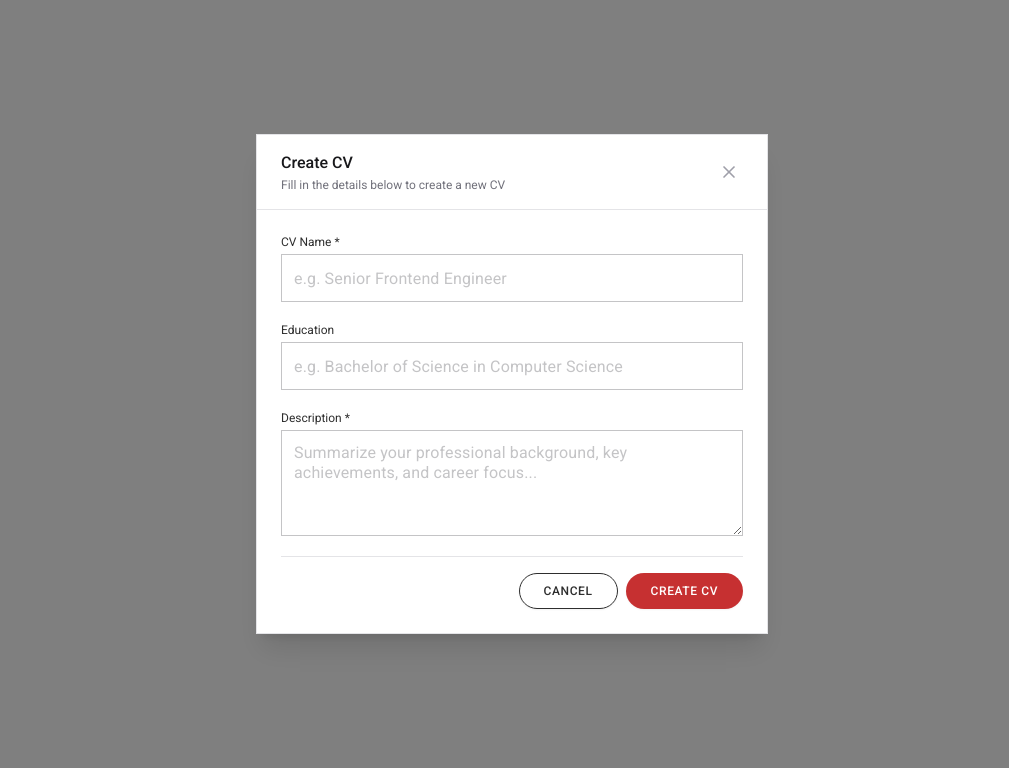
Test: CVDialog › shows validation errors when submitting with empty required fields
The image size is (1024, 768).
Click the button "Create CV": (684, 591) [626,573,743,609]
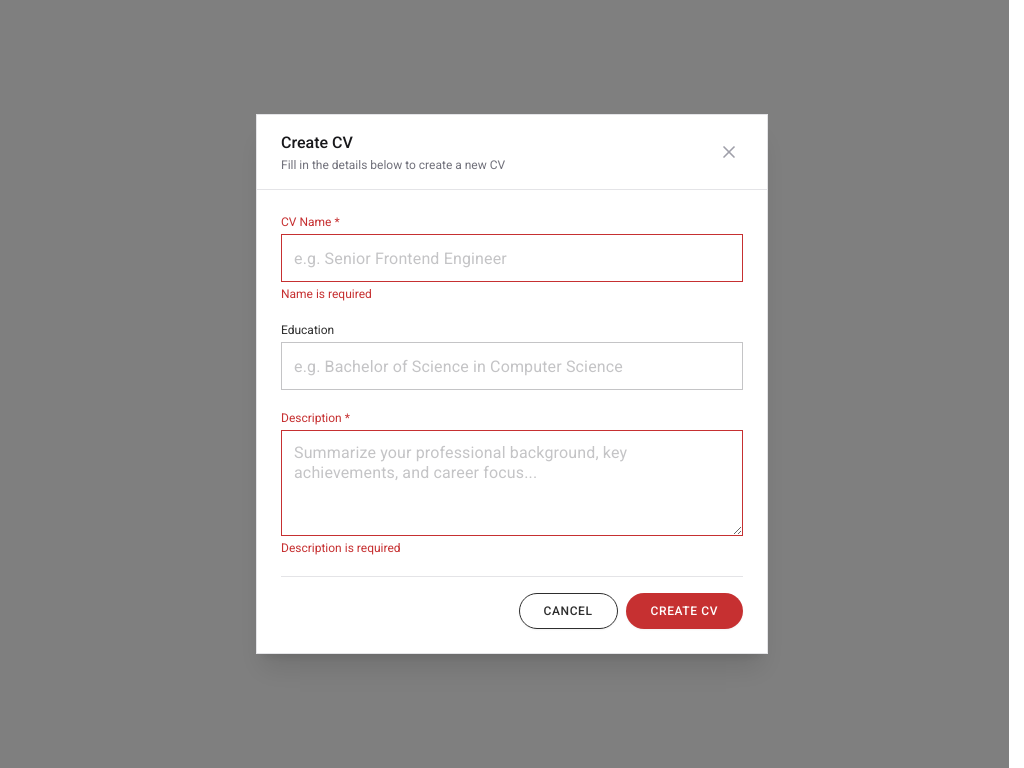
Expected: the text "Name is required" is shown, [281,287,372,301]
Expected: the text "Description is required" is shown, [281,541,401,555]
